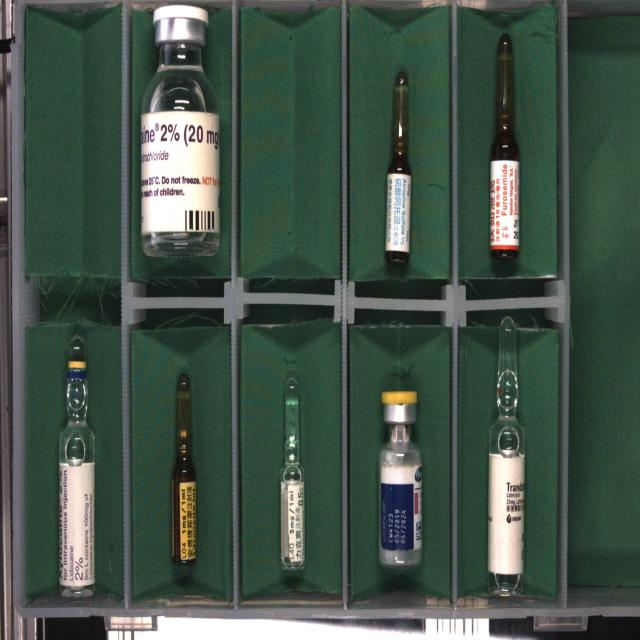Vials: (141, 5, 219, 257), (379, 390, 422, 566)
